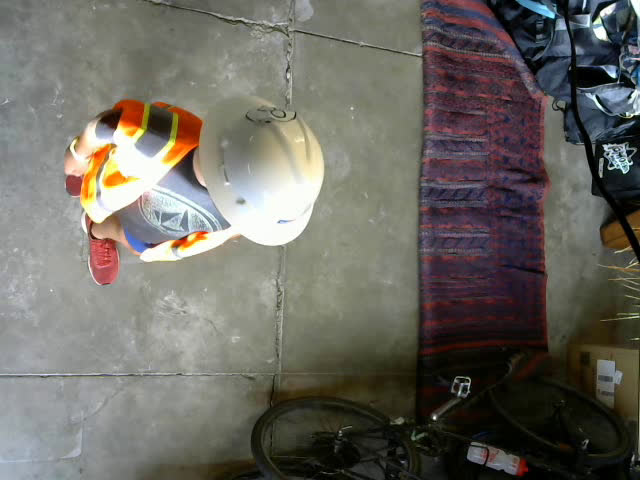eight: (245, 106, 298, 126)
